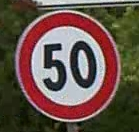limite 50: (12, 9, 123, 122)
